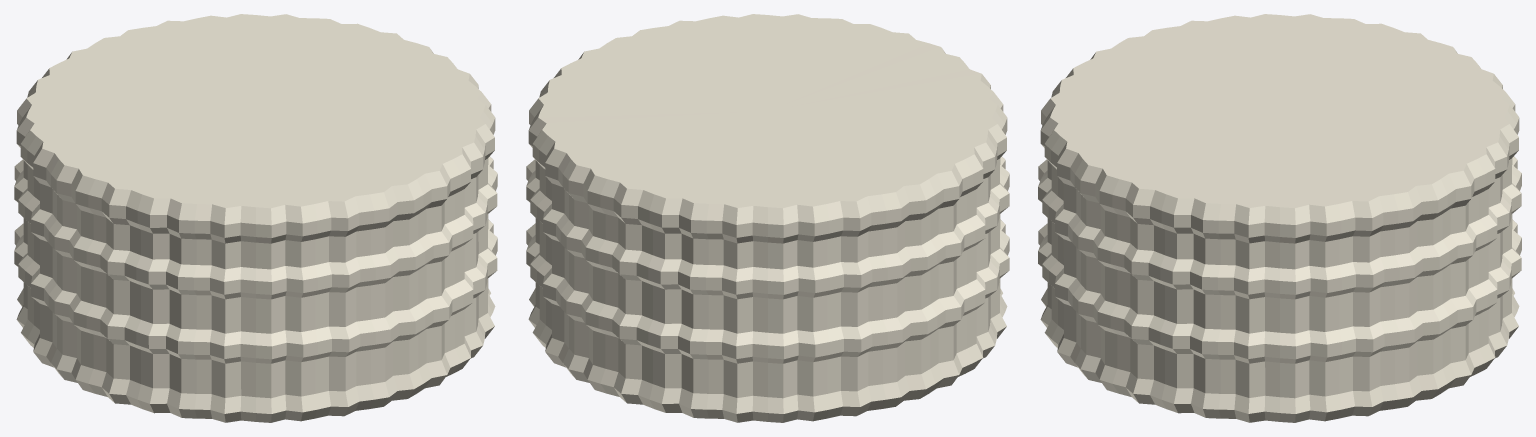
Rendered from coconut_bottle_cap_registered.obj.
3 renders of one model, left to right at view 1: azimuth 30°, elevation 25°; view 2: azimuth 150°, elevation 25°; view 3: azimuth 270°, elevation 25°, orthographic.
Visible parts, largest first — view 1: meshroom_cap_processed.obj; view 2: meshroom_cap_processed.obj; view 3: meshroom_cap_processed.obj.
Part boxes in pixels (x1,y1,x2,y2): meshroom_cap_processed.obj: [14, 14, 497, 422]; meshroom_cap_processed.obj: [526, 14, 1009, 422]; meshroom_cap_processed.obj: [1038, 14, 1521, 422].
Bounding box in the file's own units: 0.2267 × 0.1111 × 0.2267.
